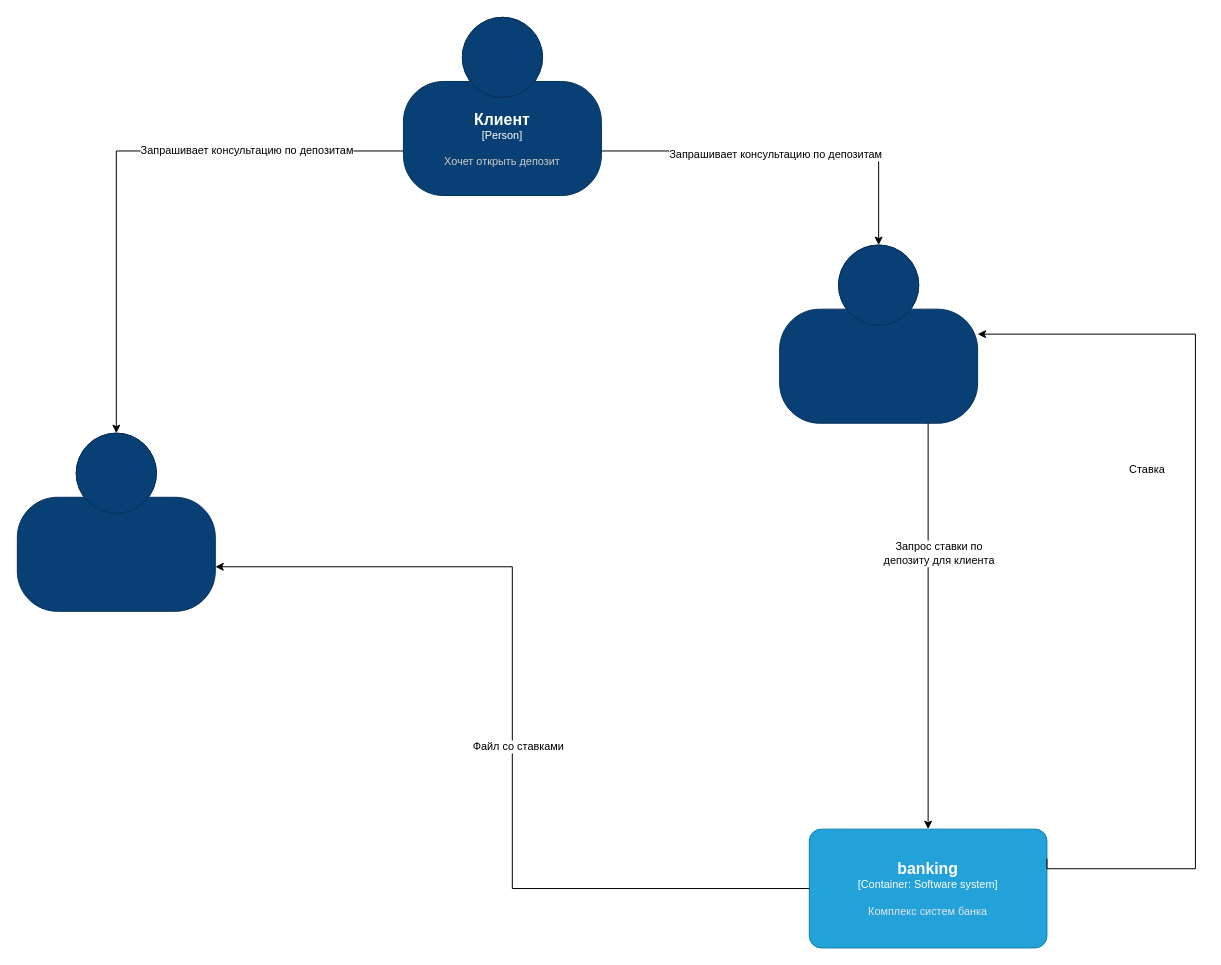
This 1221x965 diagram has some shape labels left out. The shapes that lost their labels are listed below. From the top down, each one's centre as x and y in pixels, then its label:
point 878,333: Оператор кол-центра. Внутренний [Person] Обрабатывает телефонные обращения
point 115,521: Оператор кол-центра. Внешний [Person] Обрабатывает телефонные обращения
